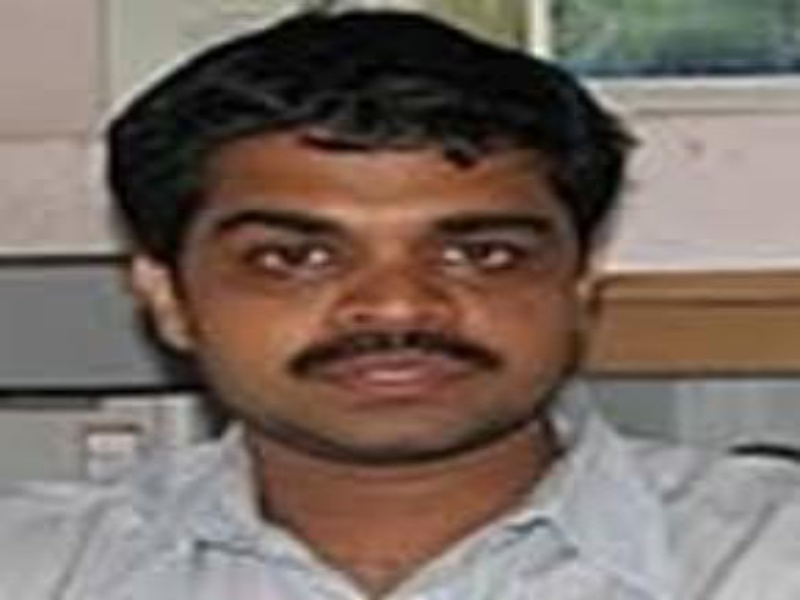TsisyArotava: (99, 32, 672, 490)
